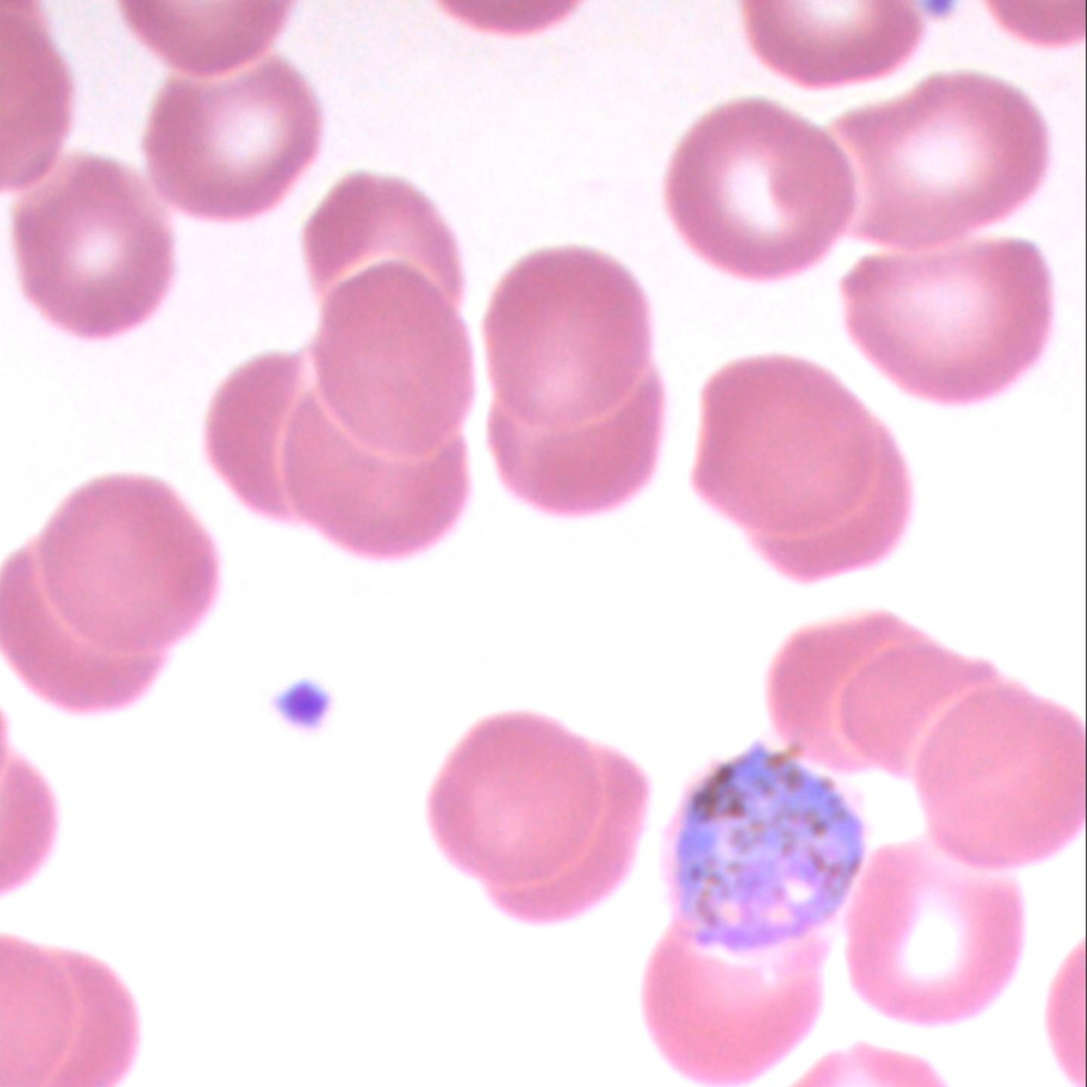Infected: (659, 740, 870, 954)
Uninfected: (428, 714, 639, 919), (831, 69, 1045, 248), (278, 370, 474, 560), (668, 96, 853, 277), (845, 238, 1049, 401), (704, 358, 885, 539), (317, 260, 473, 465), (846, 844, 1021, 1021), (45, 481, 223, 653), (12, 151, 177, 336), (488, 250, 656, 428), (917, 686, 1079, 864), (143, 60, 318, 220), (648, 927, 825, 1082), (755, 609, 920, 772), (494, 366, 664, 514), (834, 634, 988, 778), (302, 170, 463, 304), (207, 352, 309, 520)
